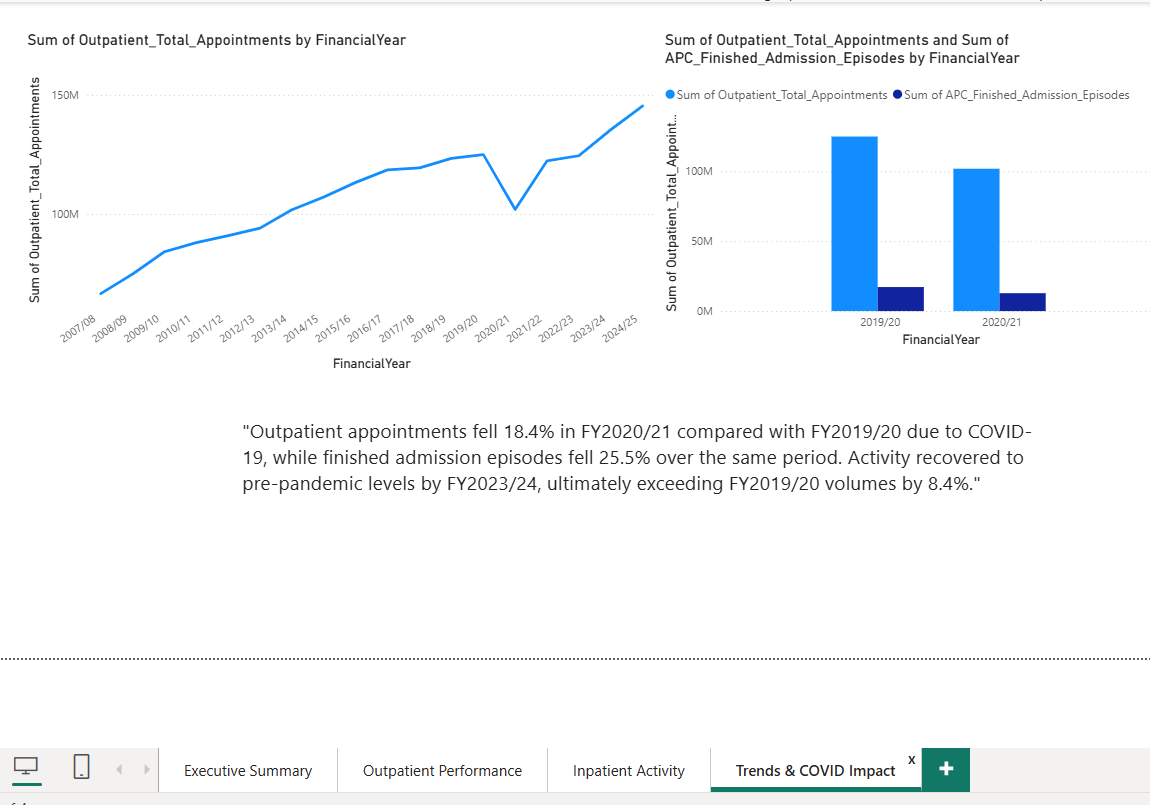

This screenshot's page, from the dashboard's own definition file:
{"tool":"powerbi","page":{"name":"Trends & COVID Impact","canvas":[1280,720],"ordinal":3},"visuals":[{"type":"lineChart","fields":{"Category":["Dim_Date.FinancialYear"],"Y":["Sum(Fact_Consultation.Outpatient_Total_Appointments)"]},"box":[26.1,31.6,699.8,378.7],"z":0},{"type":"clusteredColumnChart","fields":{"Category":["Dim_Date.FinancialYear"],"Y":["Sum(Fact_Consultation.Outpatient_Total_Appointments)","Sum(Fact_Consultation.APC_Finished_Admission_Episodes)"]},"box":[725.9,31.6,554.4,351.3],"z":1000},{"type":"textbox","box":[262.1,450.1,886.5,120.8],"z":3000}]}

Visuals, with their boxes on the page's 1280x720 design canvas (x1, y1, x2, y2). These are canvas units, not pixel positions in the 1150x805 screenshot, which may show the page scaled, cropped or inside an application window:
lineChart - Dim_Date.FinancialYear x Sum(Fact_Consultation.Outpatient_Total_Appointments): (26,32,726,410)
clusteredColumnChart - Dim_Date.FinancialYear x Sum(Fact_Consultation.Outpatient_Total_Appointments): (726,32,1280,383)
textbox: (262,450,1149,571)
